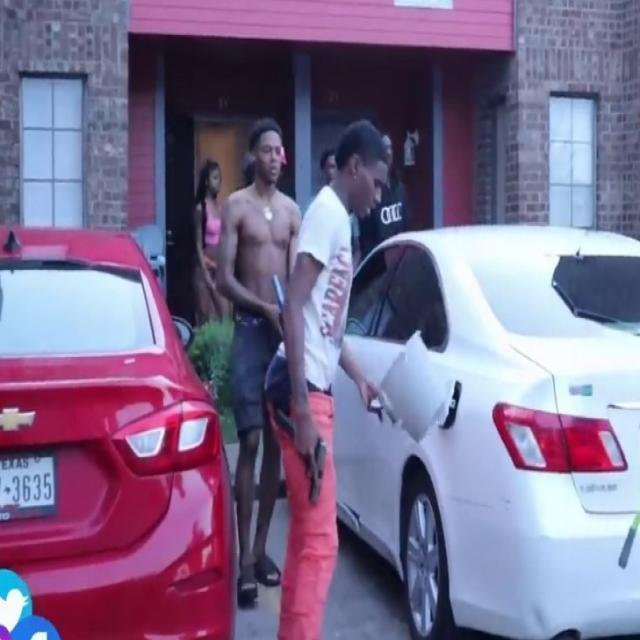Handgun: (290, 422, 330, 510)
